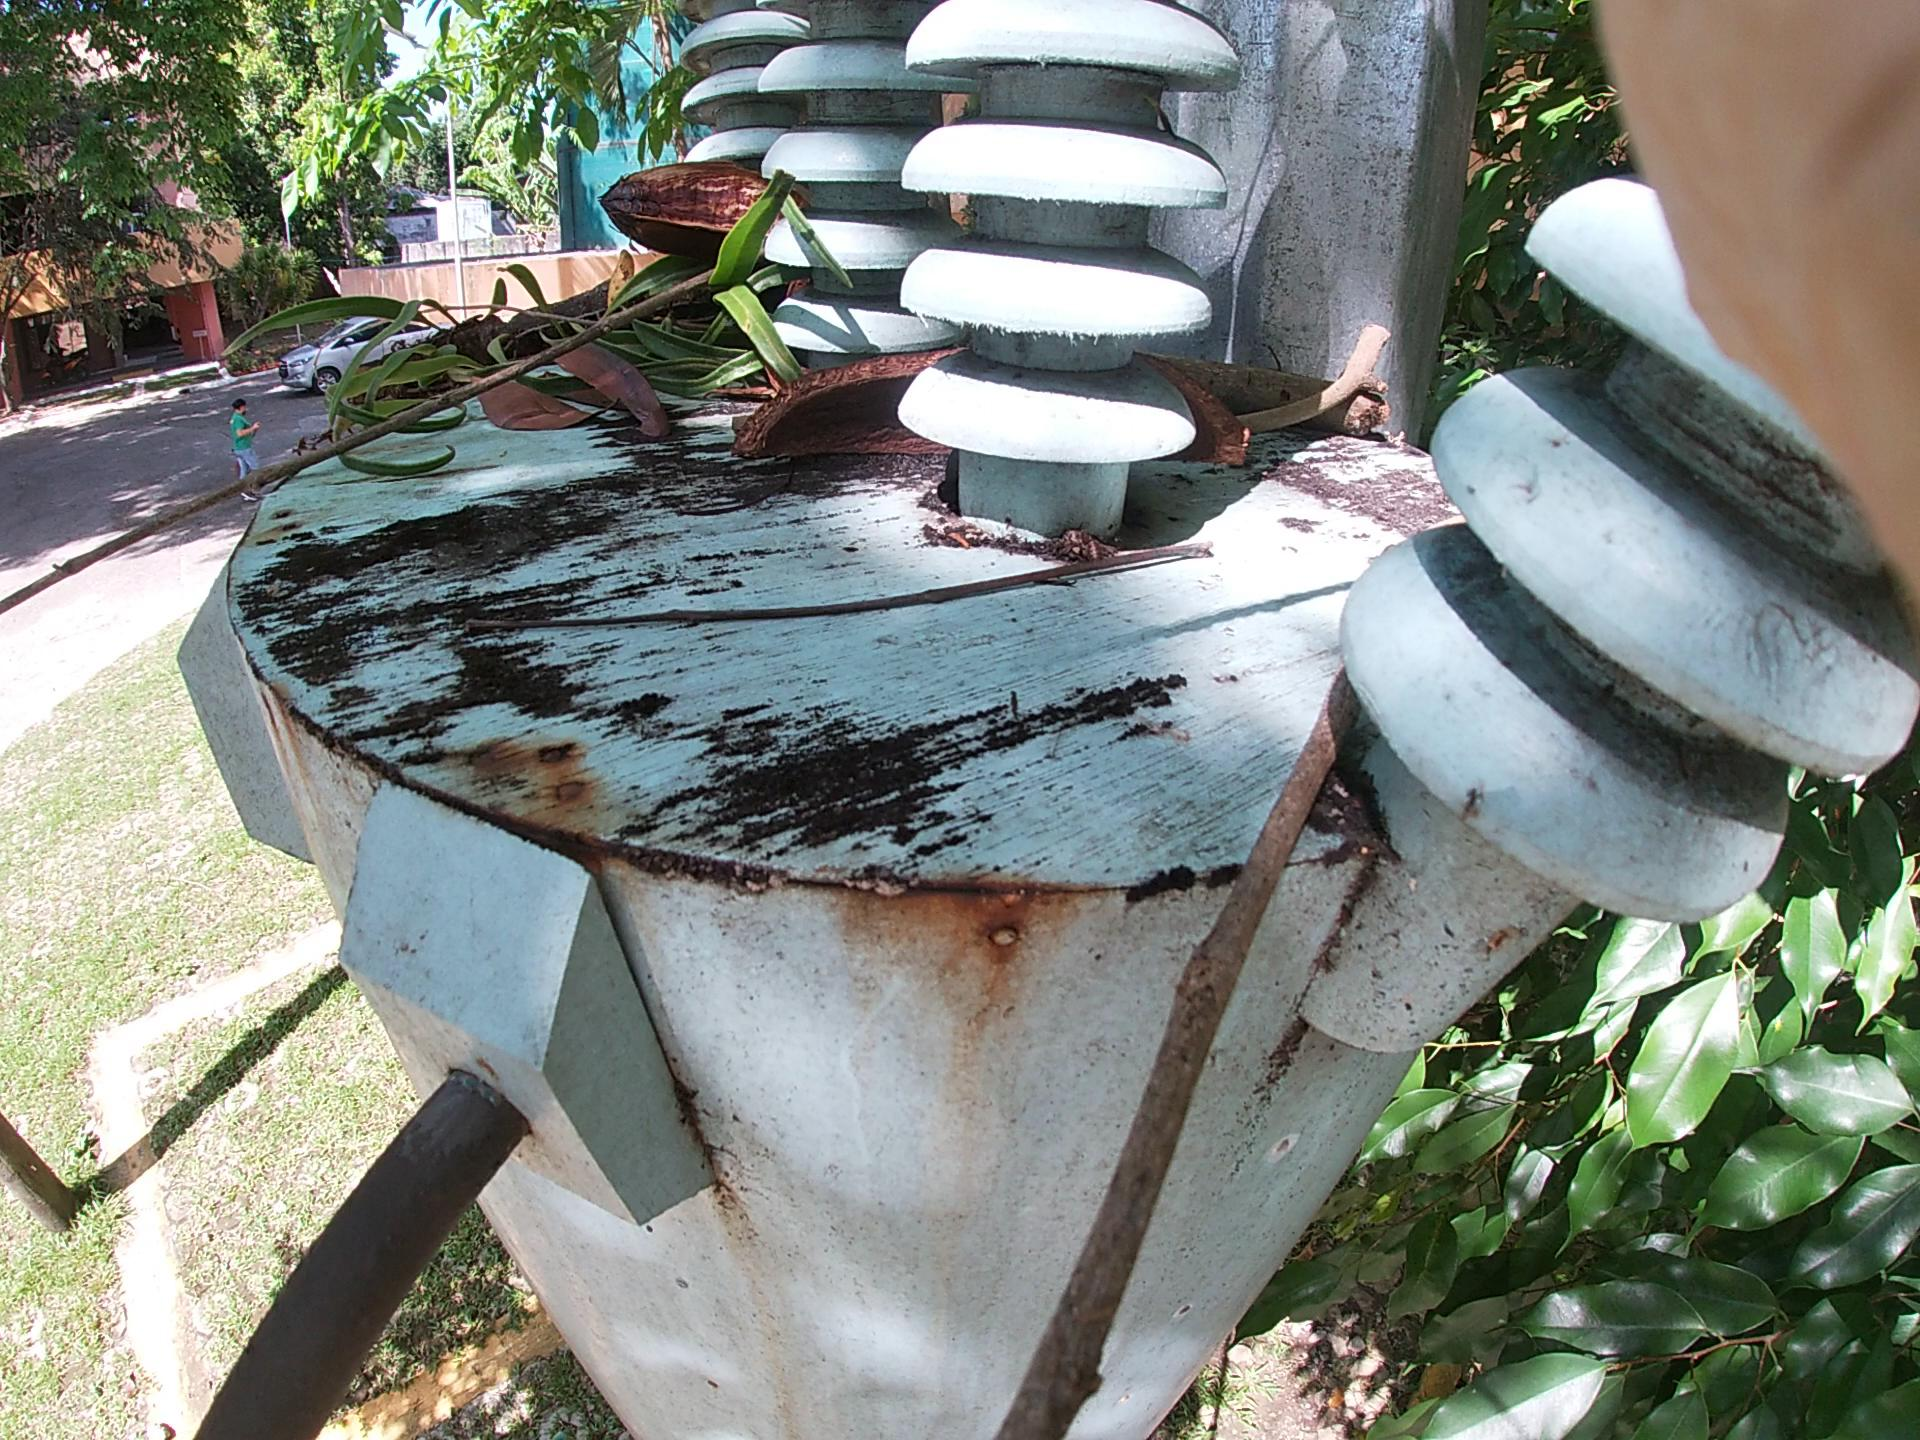branch with leaves: (317, 237, 689, 479)
leaf: (398, 333, 679, 461)
mahogany fruit: (703, 309, 1346, 551), (585, 144, 930, 321)
tree branch: (1051, 566, 1379, 1345), (83, 272, 689, 570), (373, 522, 1217, 617), (1231, 290, 1432, 513)
